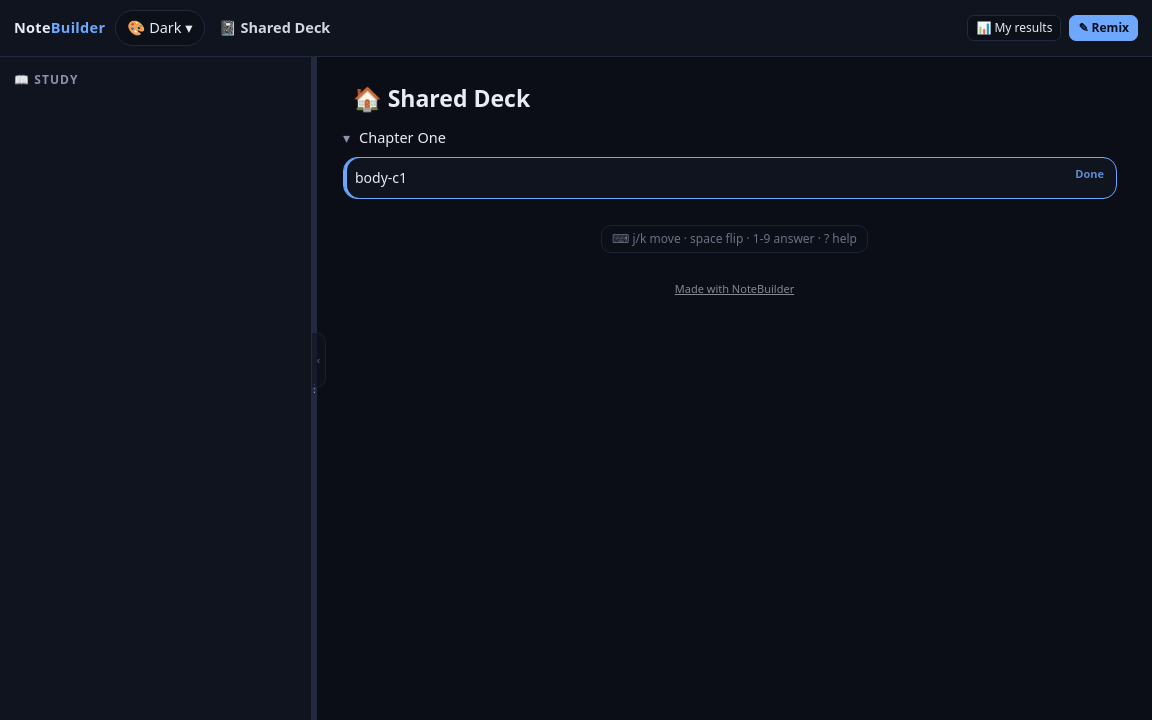
Test: Reader — Remix (D10) › unlocks authoring: flips shared off, shows the mode toggle, and toasts the exact copy
Step 1. Click the button "✎ Remix" → point(1104, 28), box 1069,15 -> 1138,41
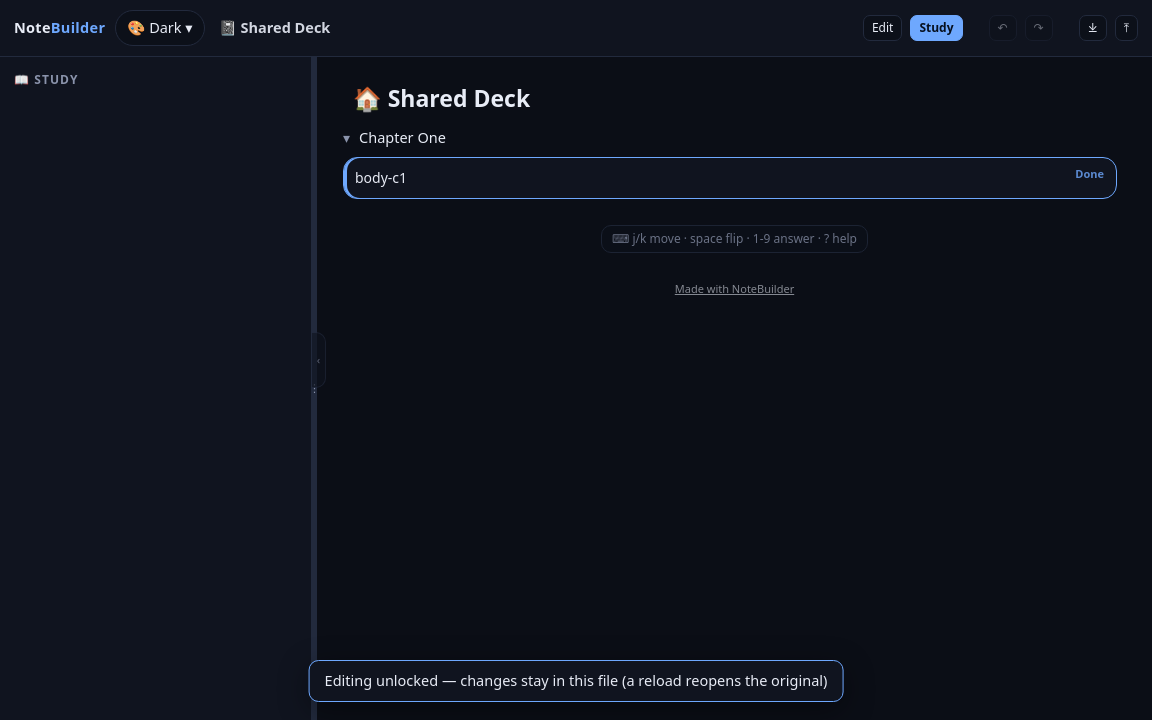
expect the text "Editing unlocked — changes stay in this file (a reload reopens the original)" is shown: met, box 309,660 -> 843,702
expect the element with id "topright" shows "Edit": met, box 863,15 -> 902,41
expect the element with id "topright" shows "Study": met, box 910,15 -> 962,41
